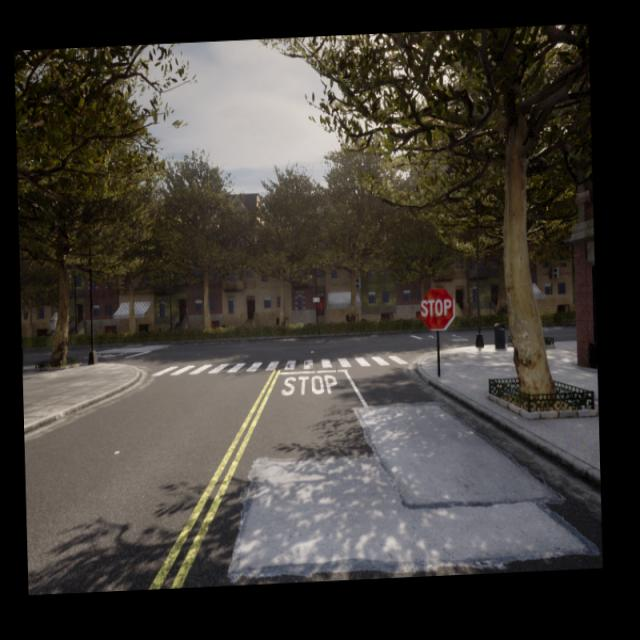stop sign: (417, 284, 457, 332), (419, 296, 453, 319)
